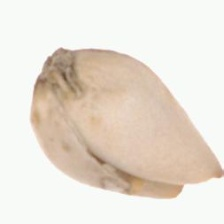L1: (129, 164, 222, 199), (32, 47, 81, 90)
L2: (29, 47, 222, 201)
